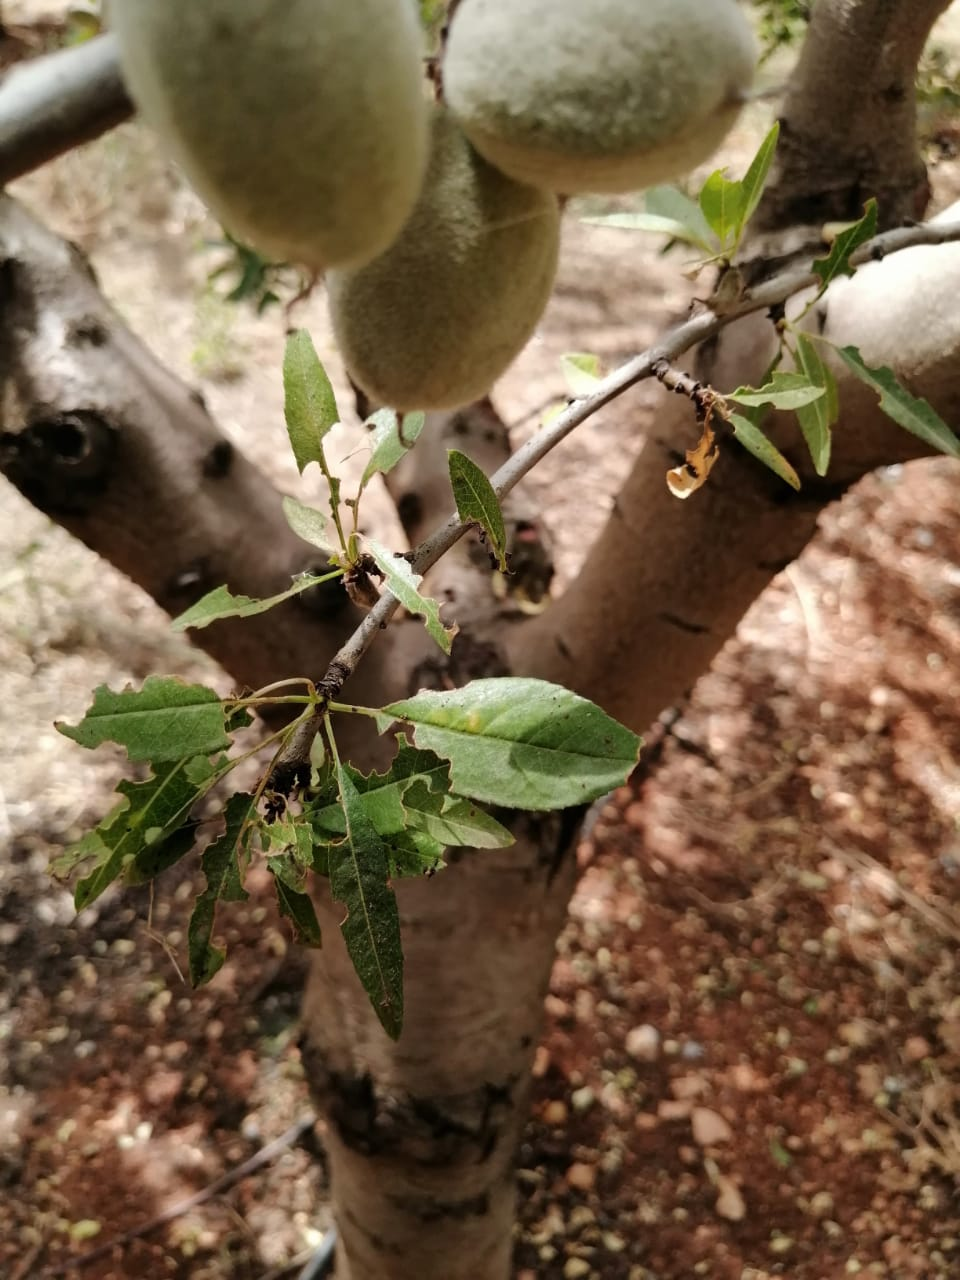othyorinques: (374, 675, 649, 815), (324, 757, 406, 1045), (72, 757, 184, 922), (52, 673, 238, 760), (188, 790, 263, 990), (165, 564, 337, 637), (359, 534, 461, 653), (282, 322, 342, 499), (446, 446, 506, 560), (725, 371, 830, 413)
